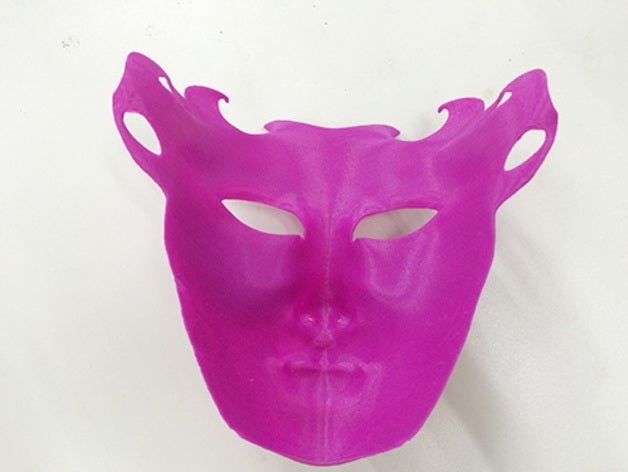Good: (83, 30, 547, 470)
